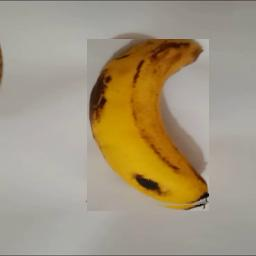Banana Semifresh: (87, 39, 209, 211)
